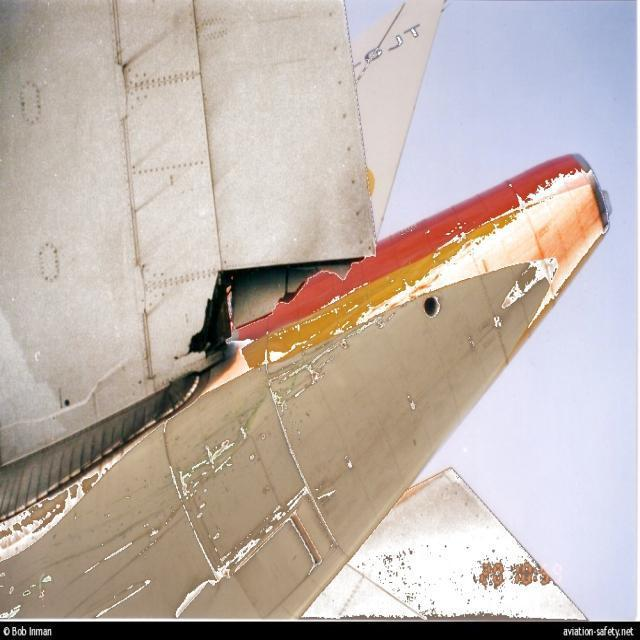crack: (168, 255, 372, 365)
